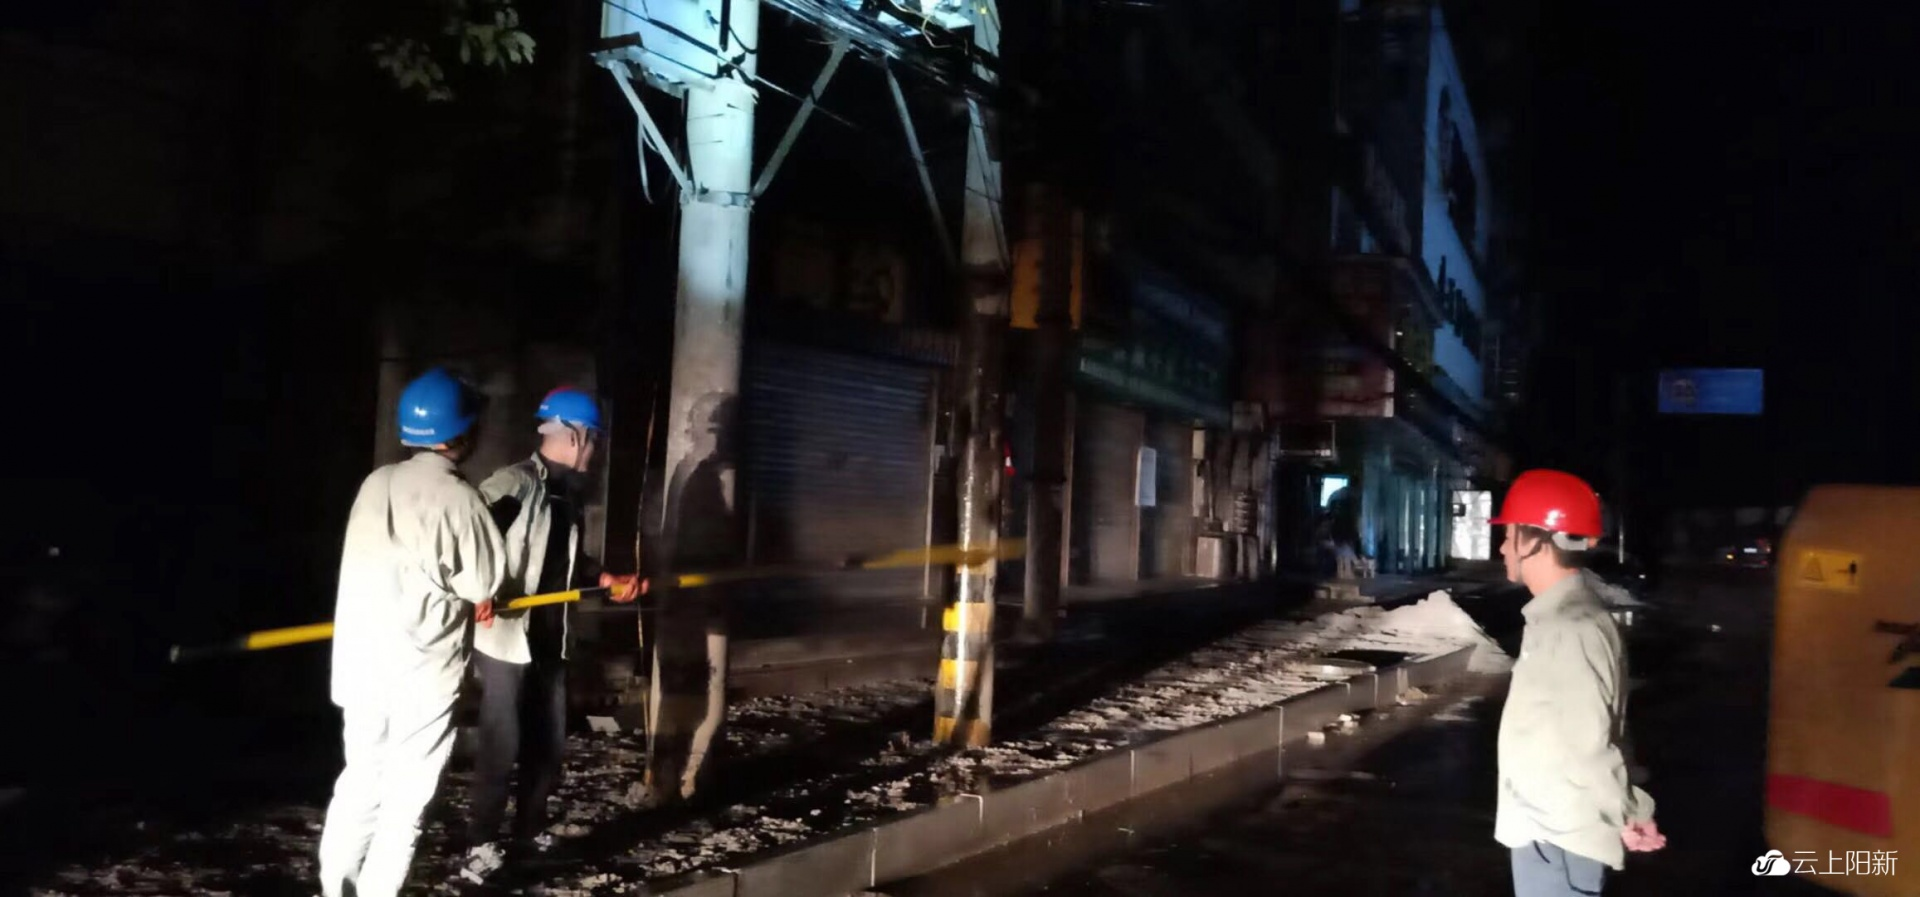blue: (396, 363, 482, 463), (535, 381, 606, 476)
red: (1477, 461, 1609, 596)
